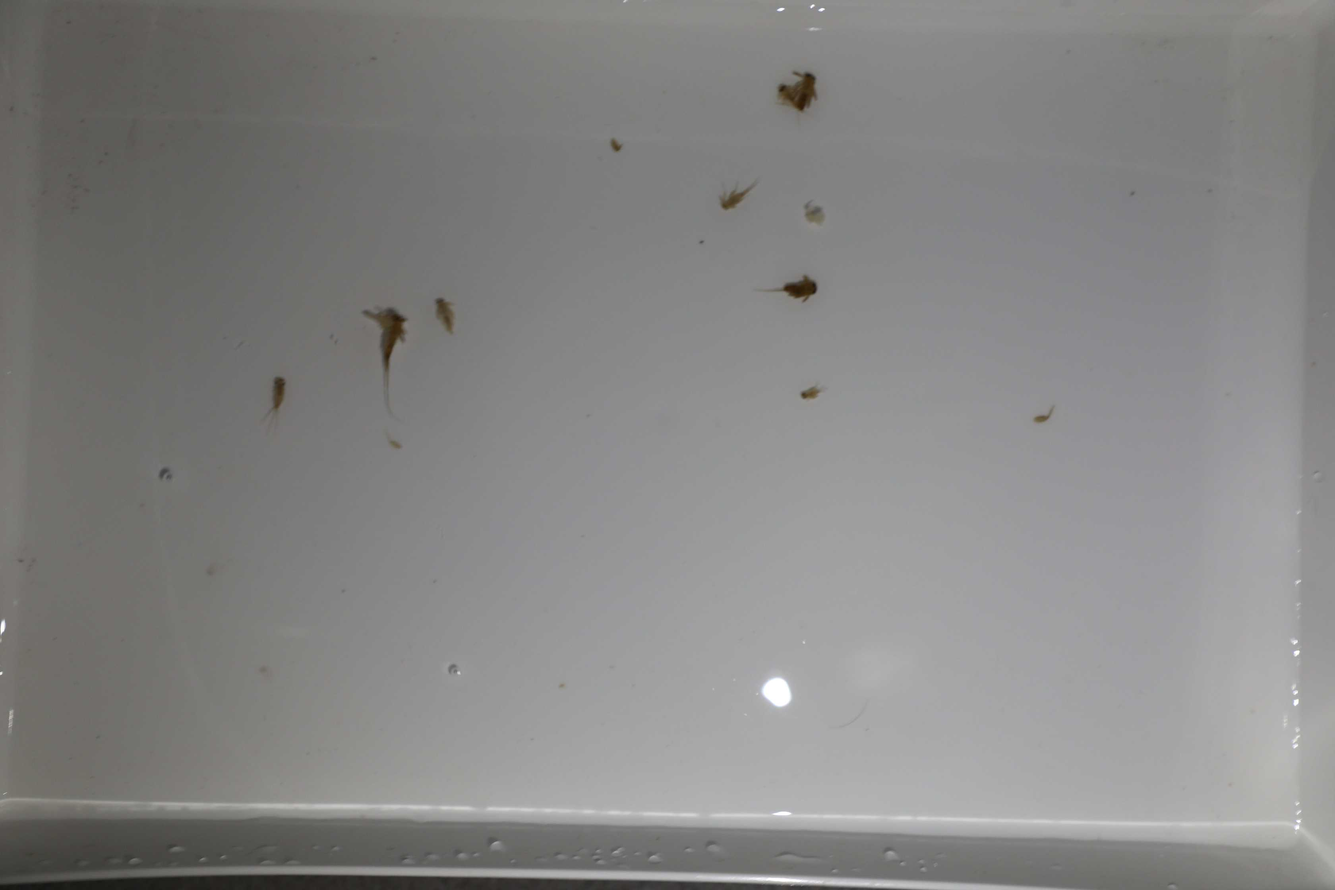Mayfly: (362, 309, 406, 416), (717, 175, 760, 215), (253, 375, 287, 423), (758, 277, 817, 301), (431, 299, 461, 338), (1024, 398, 1057, 429), (774, 84, 804, 117), (798, 200, 829, 231), (794, 68, 817, 107), (794, 385, 831, 403)
